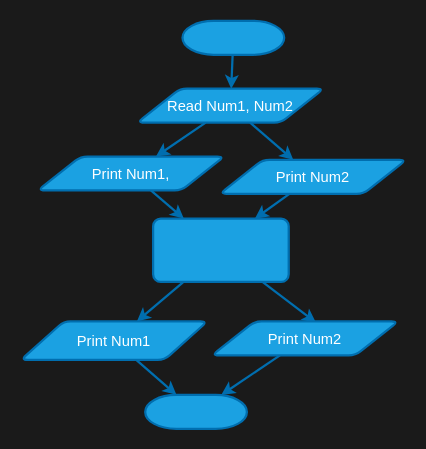
Some shapes in this 426 by 449 pixel diagram are drawn without their labels. The shapes that lost their labels are listed below. From the top down, each one's box as (x1, y1, x2, y2) in pixels, then its label:
(181, 19, 285, 55): Start
(151, 217, 289, 282): Temp= Num1 Num1=Num2 Num2=Temp
(144, 393, 247, 429): End
